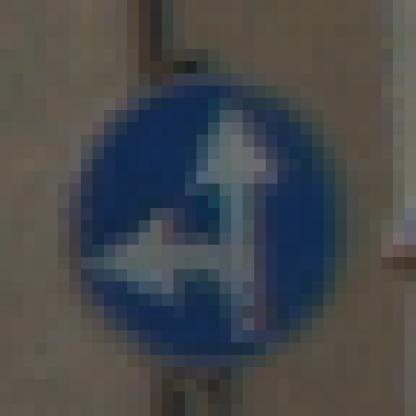Straight or Left: (71, 74, 360, 356)
